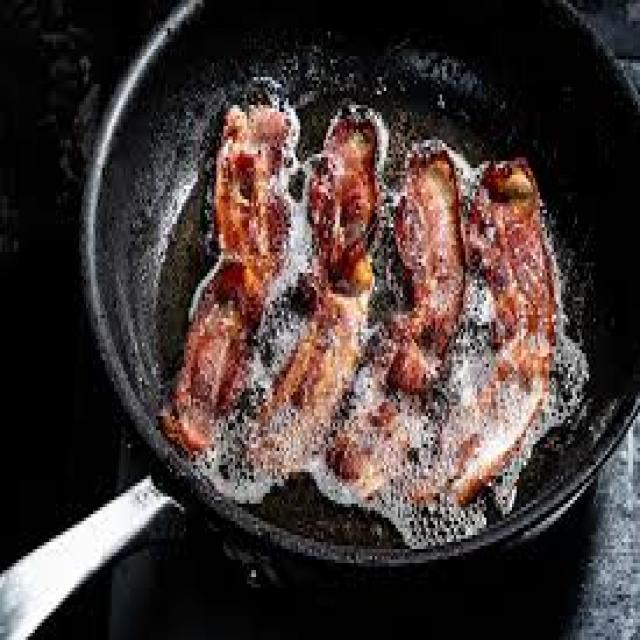Bacon: (250, 115, 385, 474), (160, 105, 299, 450), (451, 158, 553, 501), (389, 148, 465, 392)
